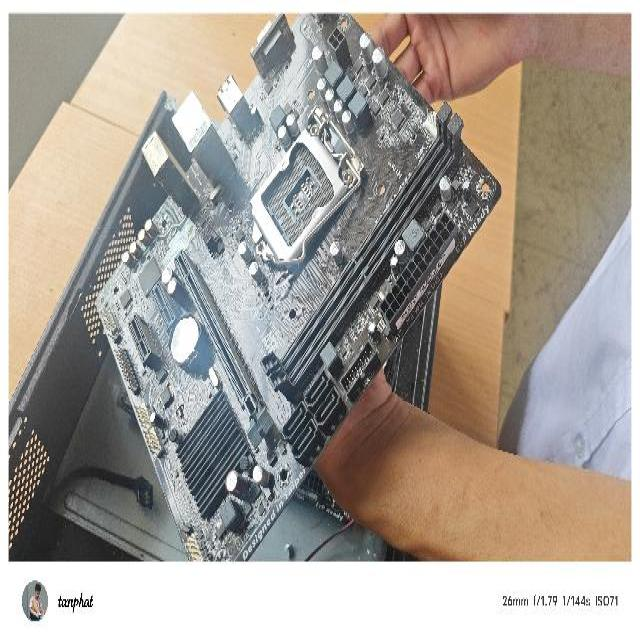Mainboard: (92, 13, 504, 563)
